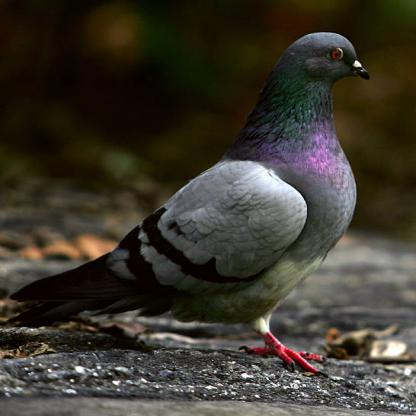Rock Pigeon: (31, 31, 376, 331)
